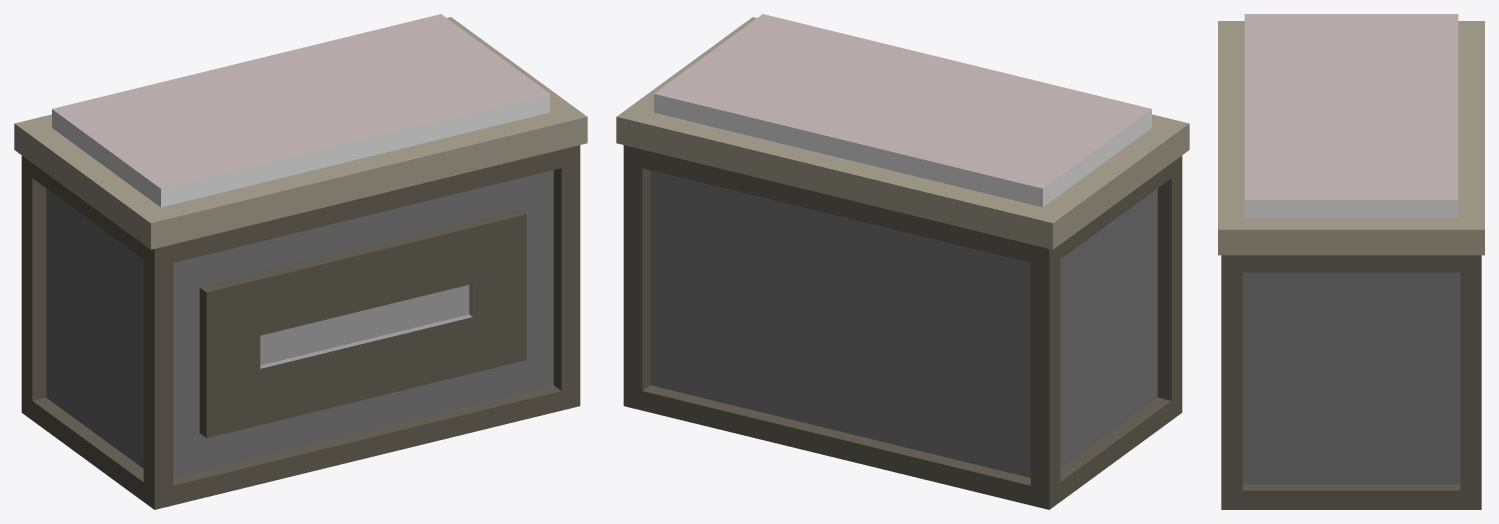
The model's file is treasureChestClosed.glb.
The picture shows the model from 3 angles, left to right: view 1: azimuth 30°, elevation 25°; view 2: azimuth 150°, elevation 25°; view 3: azimuth 270°, elevation 25°; orthographic projection. The views are drawn at different scales.
Parts seen in each view (by area): view 1: treasure chest closed; view 2: treasure chest closed; view 3: treasure chest closed.
Boxes of the visible parts, bbox=[...] form: treasure chest closed: bbox=[14, 14, 587, 509]; treasure chest closed: bbox=[616, 14, 1189, 509]; treasure chest closed: bbox=[1218, 14, 1484, 509].
Size of the model in its own units: 3.79 by 2.56 by 2.05.
